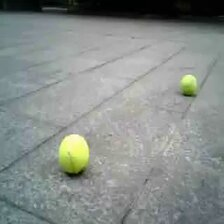tennis: (59, 136, 88, 171), (179, 74, 196, 92)
